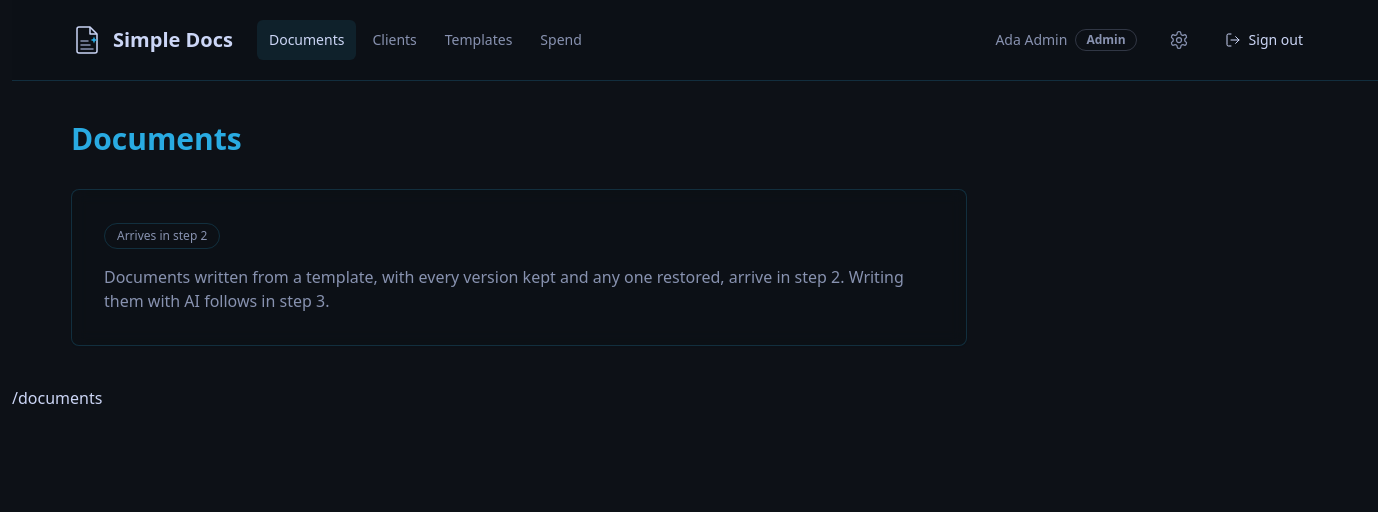
it: the app shell › keeps you signed in, and says so, when sign-out can't reach Simple Docs
The image size is (1378, 512).
Click the button "Sign out": [1264, 40] box [1209,20,1319,60]
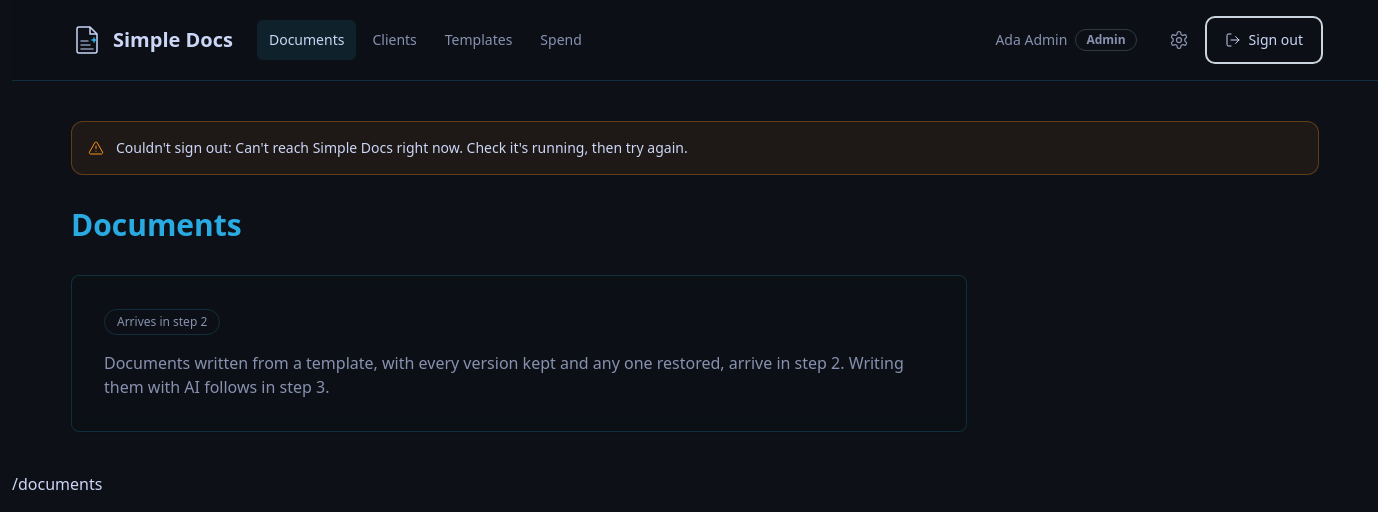
Expected: the text with test id "where" reads "/documents", [12,473,102,495]
Expected: the message shows "Couldn't sign out: Can't reach Simple Docs right now.", [116,138,688,157]
